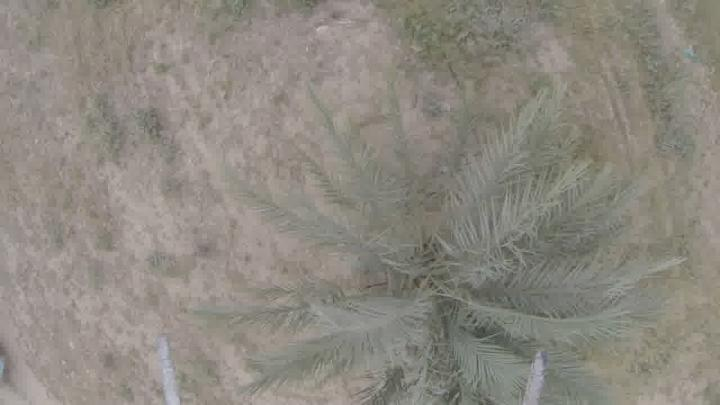Date-Palm-Crown: (356, 174, 572, 404)
